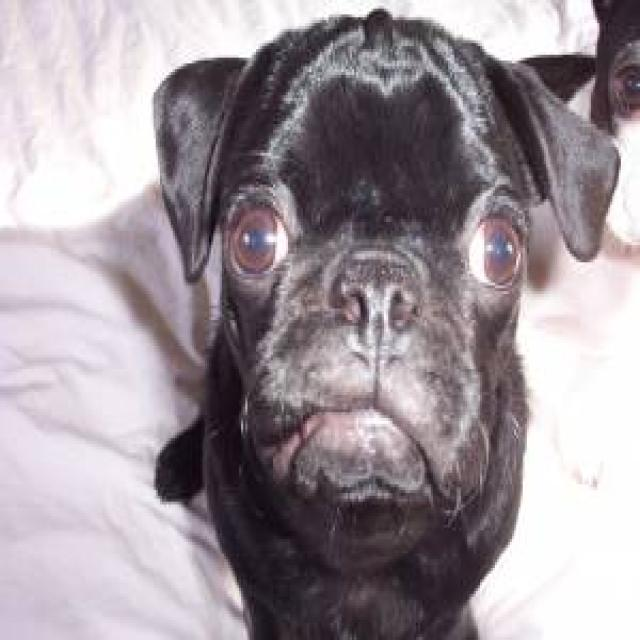dog-pug: (145, 3, 625, 634)
